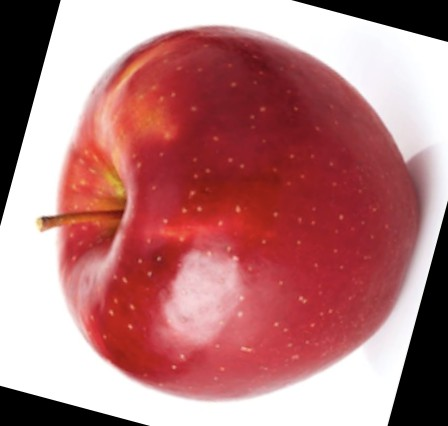fresh_apple: (53, 22, 423, 405)
